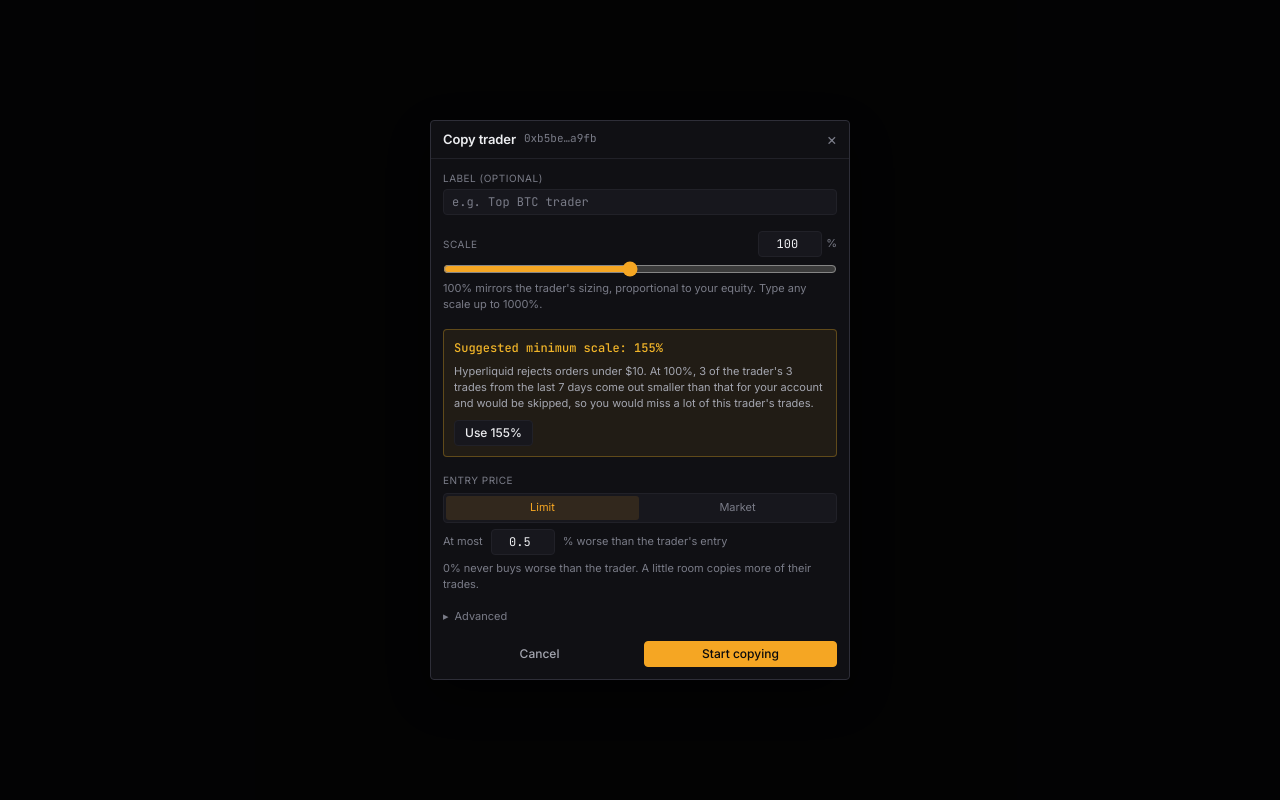
Test: CopyModal sizing check › applies the suggested scale
Click the button "Use 155%".
click(494, 433)  # box 454,420 -> 533,446
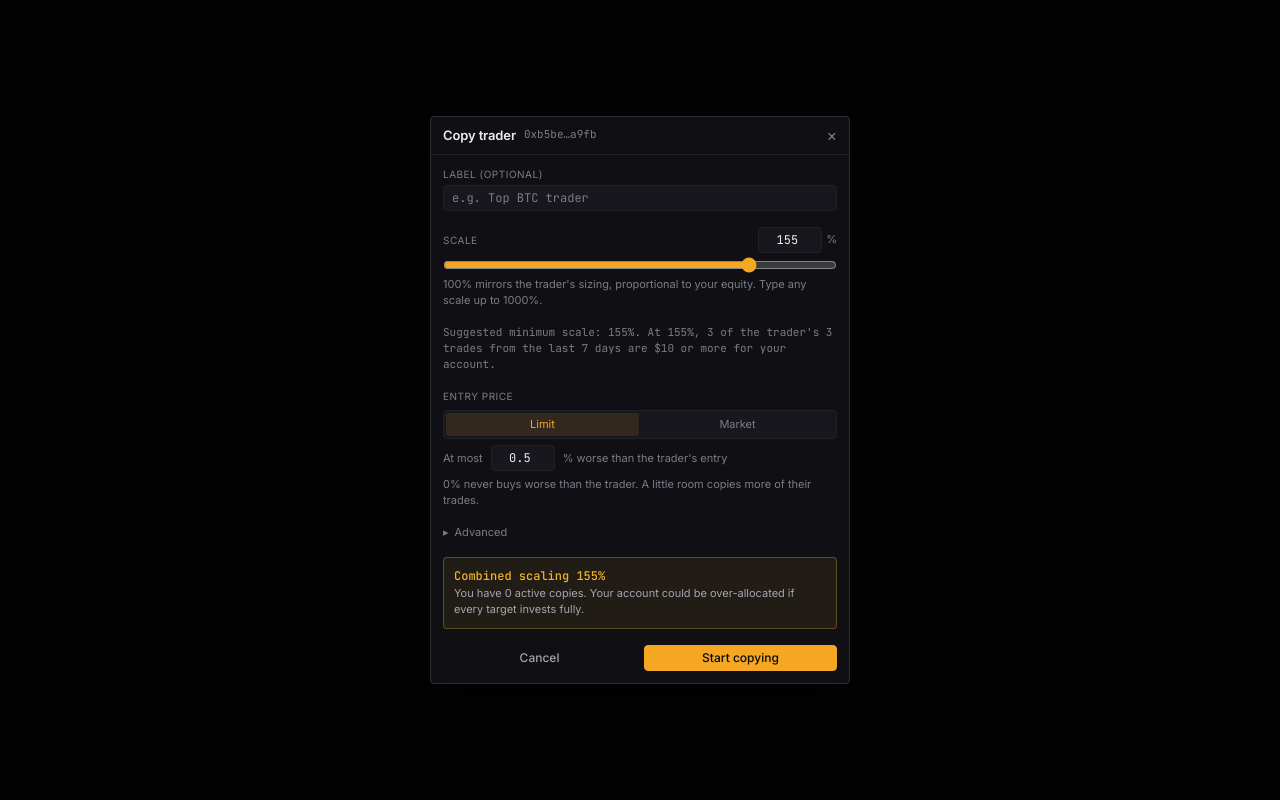
Now the number field labelled "Scale" holds "155", box 758,227 -> 822,253
Now the button "Use 155%" is gone
